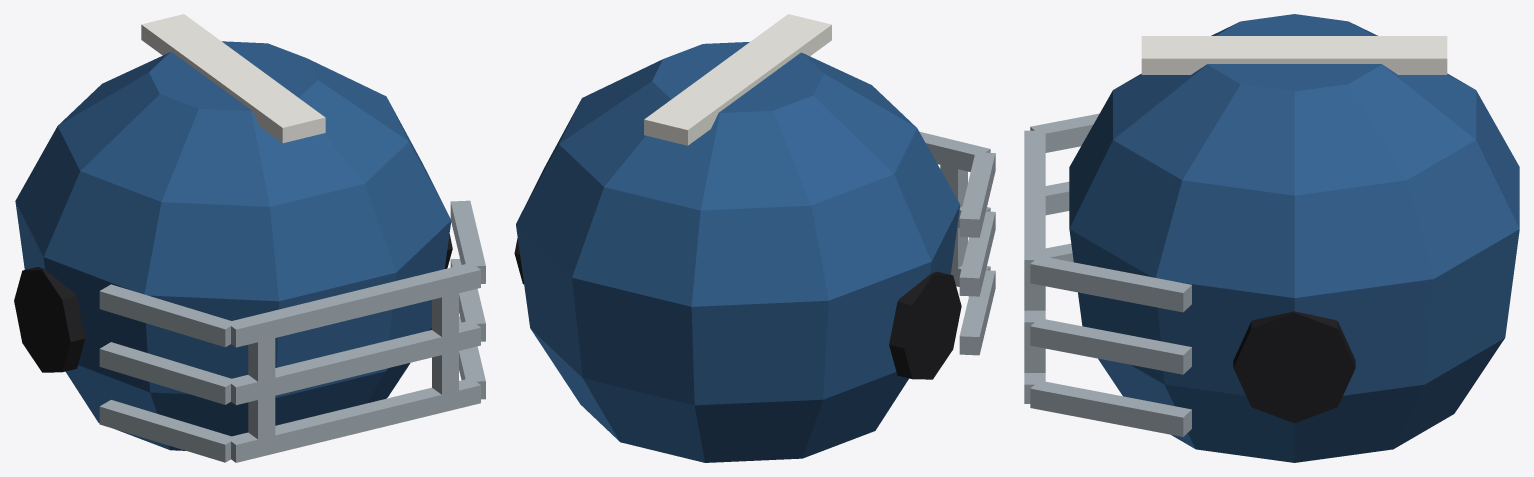
The model's file is GS_FootballHelmet_01.glb.
3 views of the same model, side by side, from view 1: azimuth 30°, elevation 25°; view 2: azimuth 150°, elevation 25°; view 3: azimuth 270°, elevation 25° (orthographic). The views are drawn at different scales.
Visible parts, largest first — view 1: GS_FootballHelmet_01; view 2: GS_FootballHelmet_01; view 3: GS_FootballHelmet_01.
Boxes of the visible parts, x1,y1,x2,y2 form: GS_FootballHelmet_01: (14, 14, 485, 462); GS_FootballHelmet_01: (514, 14, 995, 462); GS_FootballHelmet_01: (1024, 14, 1519, 462).
Bounding box in the file's own units: 0.312 × 0.249 × 0.3244.
Materials: 1 (1 with a texture image).
